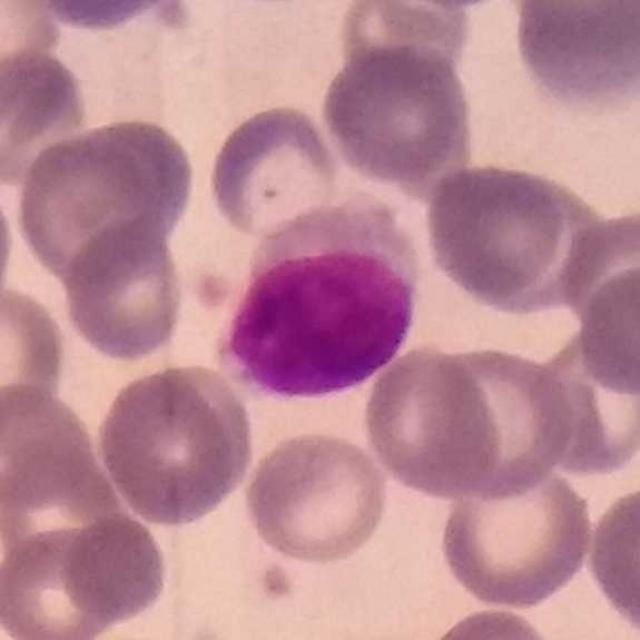Lymphocyte: (221, 200, 424, 404)
RBC: (10, 111, 200, 287), (94, 359, 257, 530), (420, 341, 580, 502), (435, 460, 598, 611), (316, 40, 479, 190), (420, 157, 573, 310), (360, 340, 504, 501), (239, 426, 393, 566), (203, 100, 344, 239), (58, 218, 189, 366), (0, 430, 120, 578), (530, 324, 640, 482), (0, 523, 142, 640), (508, 0, 640, 114), (330, 0, 482, 92), (58, 510, 171, 632), (0, 42, 90, 188), (0, 377, 91, 521), (0, 277, 72, 434), (557, 204, 640, 337), (573, 260, 640, 400), (583, 476, 640, 638), (0, 0, 69, 110), (505, 1, 640, 52), (20, 0, 199, 35), (416, 603, 563, 640), (0, 172, 18, 323), (371, 0, 532, 13)
